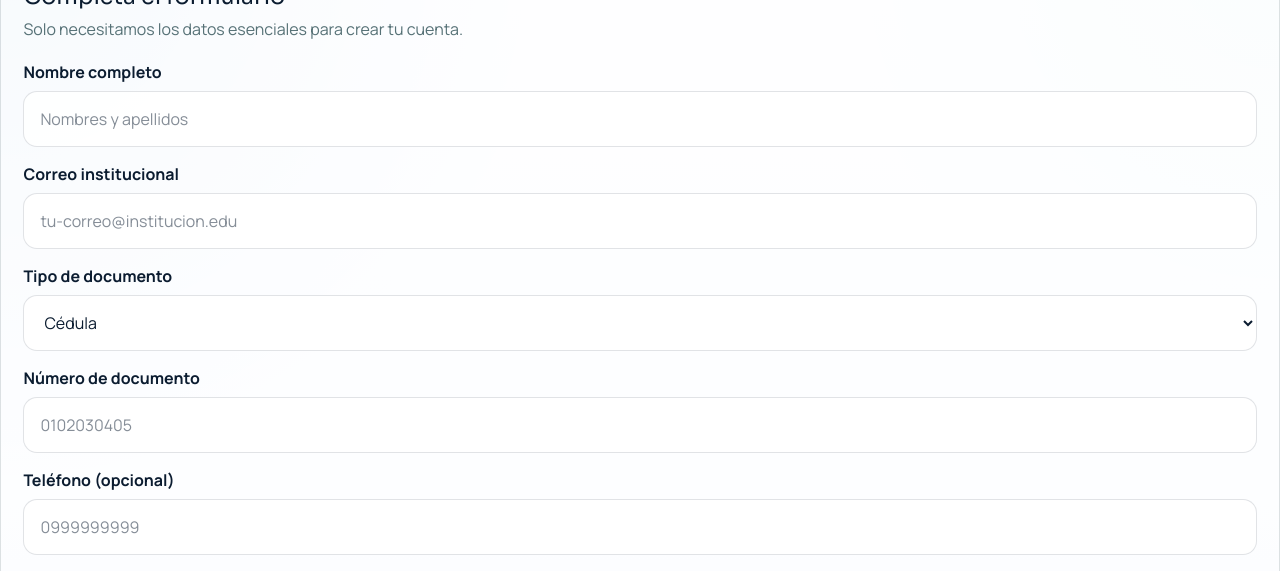
Test: RegisterForm › shows validation message when passwords do not match on submit
The width and height of the screenshot is (1280, 571).
Type "Nuevo Usuario" into the field with placeholder "Nombres y apellidos" at (640, 119), box [23,91,1257,147]
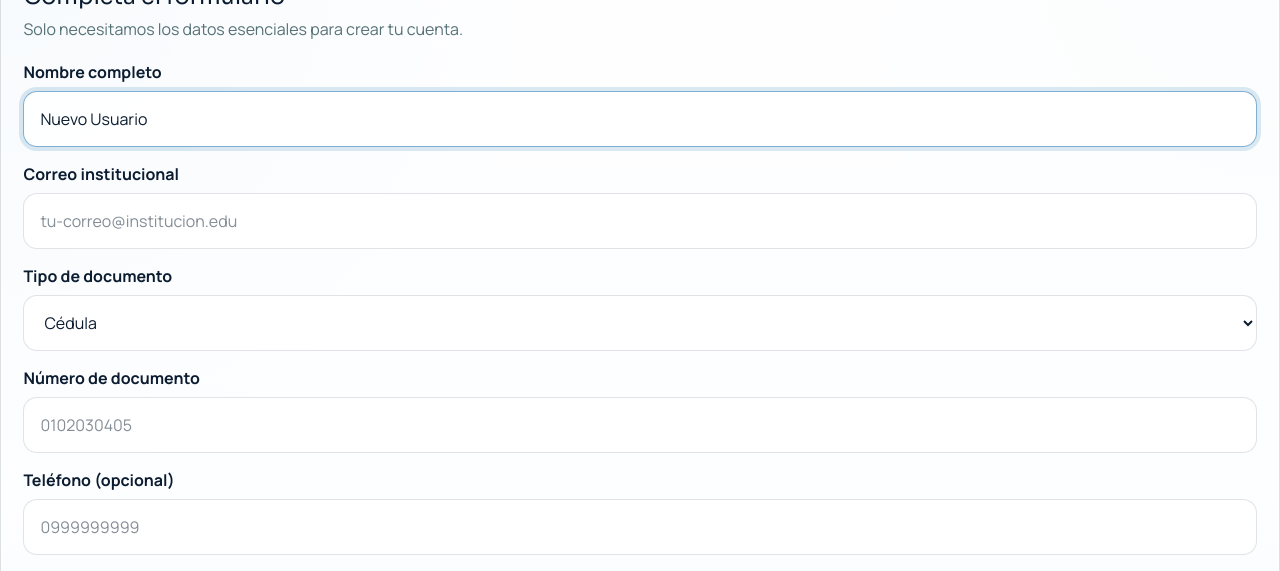
Type "nuevo@uta.edu.ec" into the field with placeholder "tu-correo@institucion.edu" at (640, 221), box [23,193,1257,249]
(page scrolled)
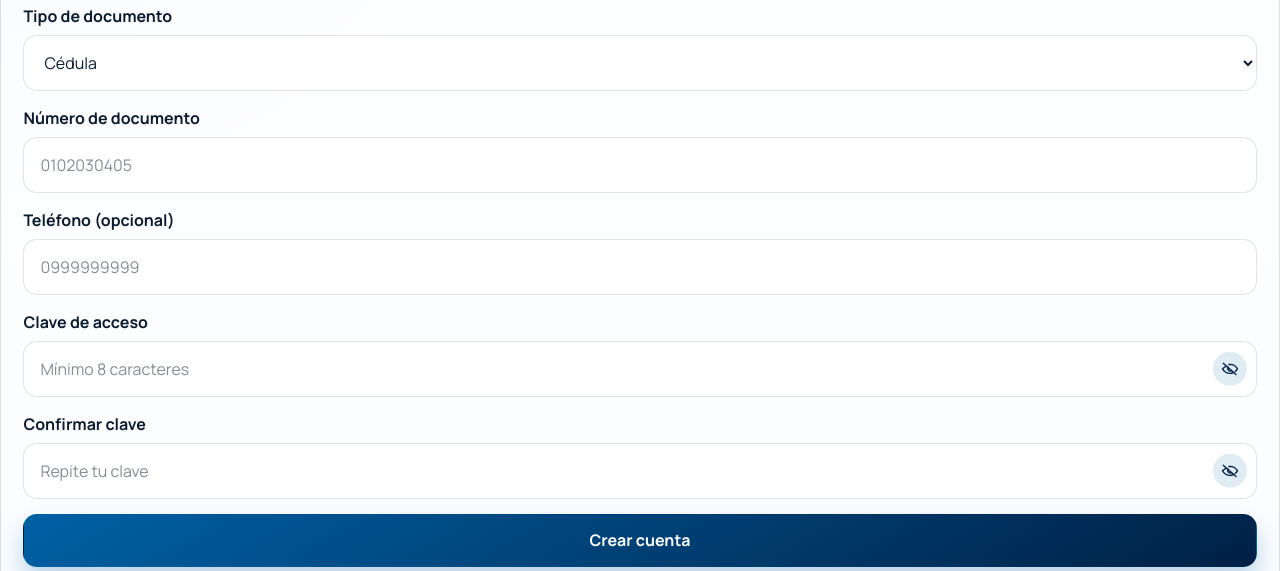
Type "Password123" into the password field with placeholder "Mínimo 8 caracteres" at (640, 369), box [23,341,1257,397]
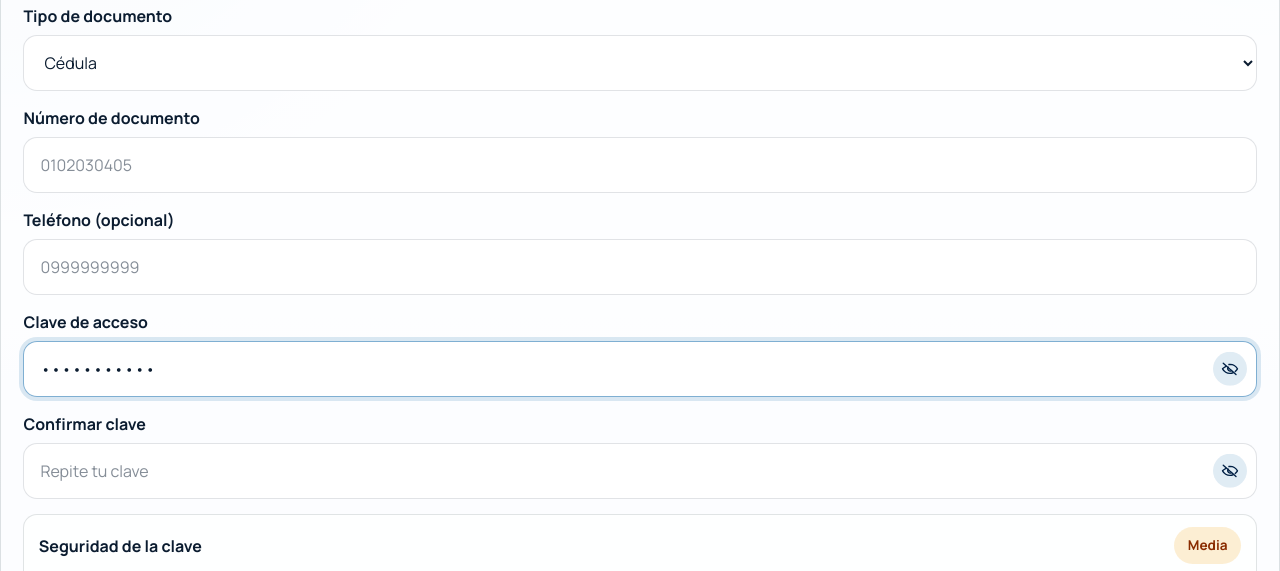
Type "Password999" into the password field with placeholder "Repite tu clave" at (640, 471), box [23,443,1257,499]
(page scrolled)
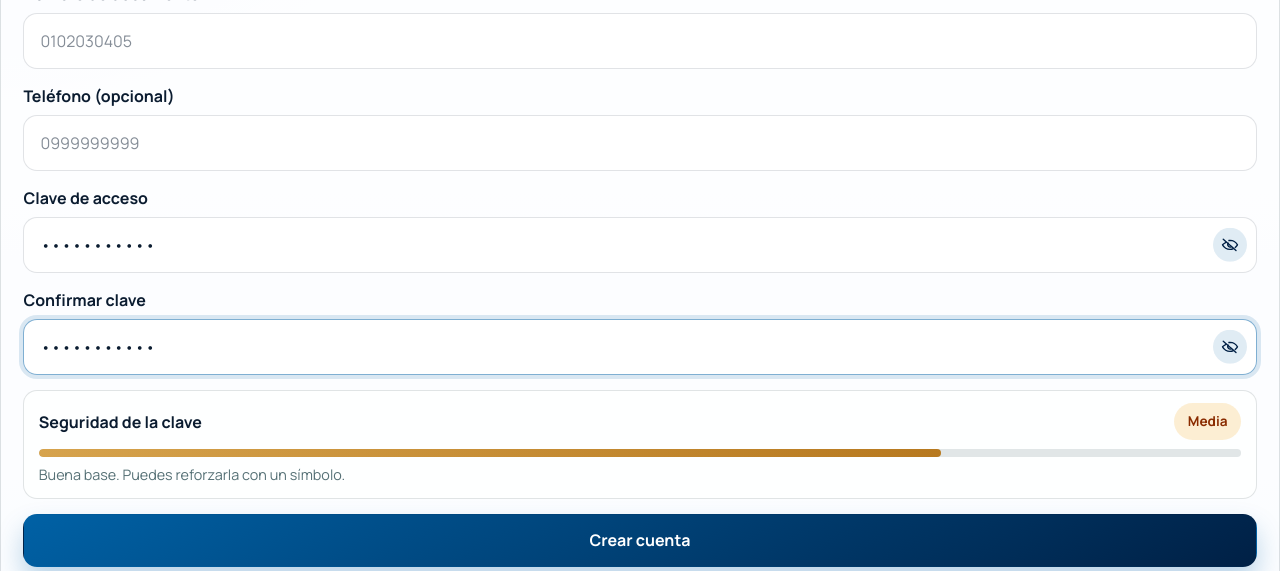
Click the button "Crear cuenta" at (640, 540), box [23,514,1257,567]
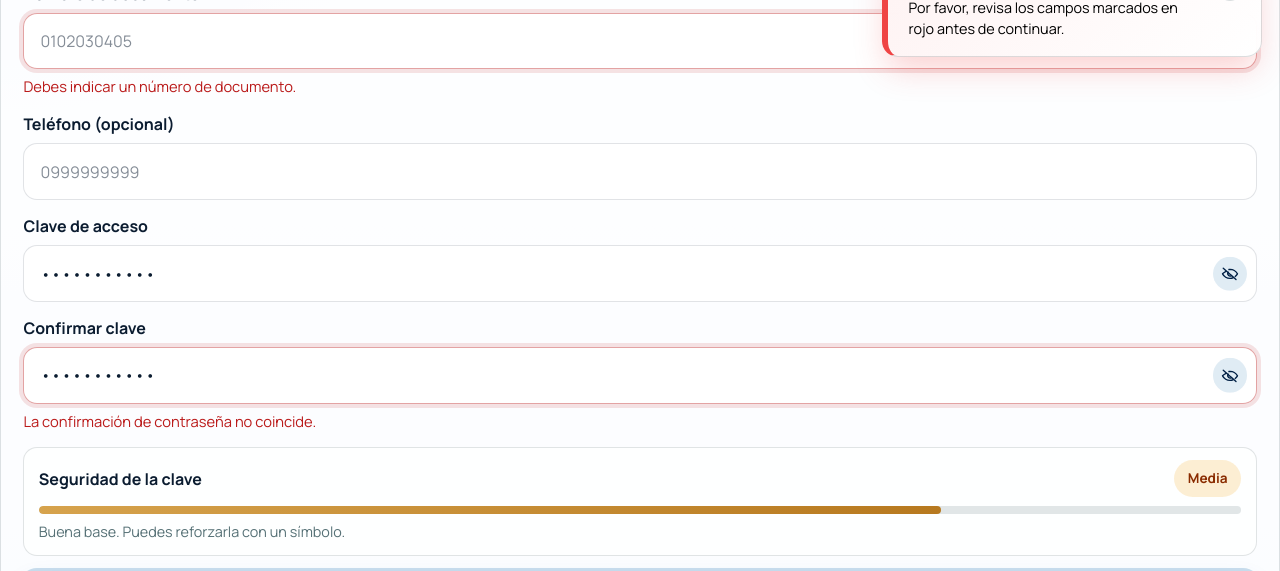
Now the text "La confirmación de contraseña no coincide." is shown, box [23,411,316,431]
